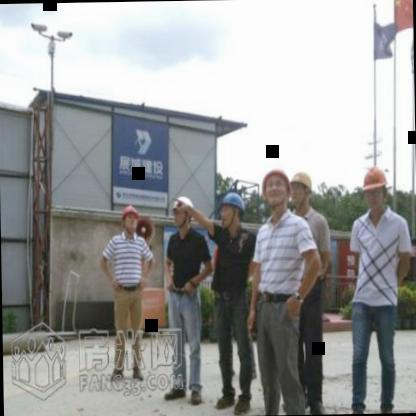helmet: (260, 162, 292, 219), (360, 166, 392, 218), (215, 188, 244, 238), (286, 166, 314, 214), (172, 193, 195, 232), (118, 204, 142, 238)
